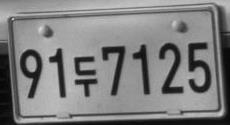1: (46, 47, 72, 97), (131, 43, 154, 94)
2: (158, 42, 183, 93)
5: (187, 42, 212, 93)
7: (101, 45, 126, 96)
9: (19, 47, 43, 98)
두: (72, 55, 98, 97)
